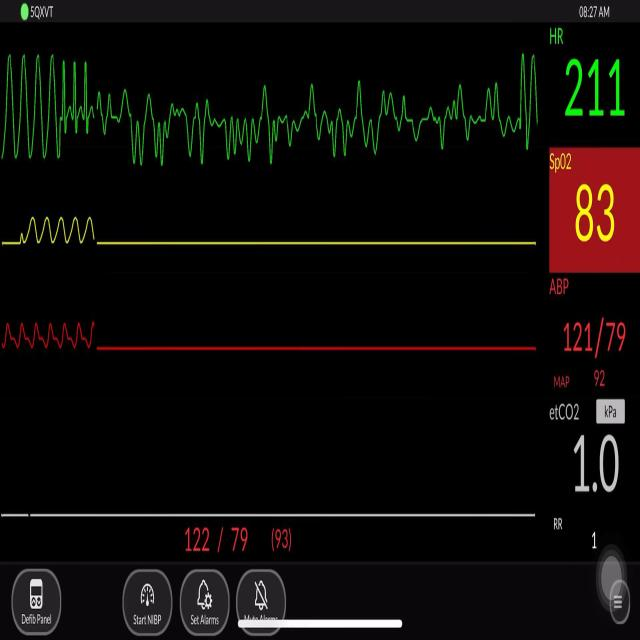danger: (2, 50, 92, 164)
